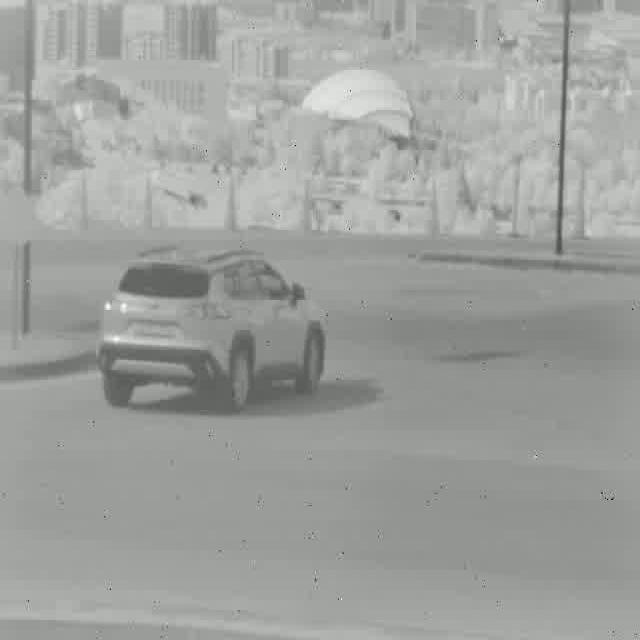Car: (94, 247, 326, 412)
